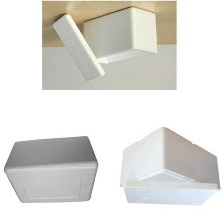foam_box: (115, 124, 224, 210), (48, 4, 162, 85), (0, 132, 103, 207)
